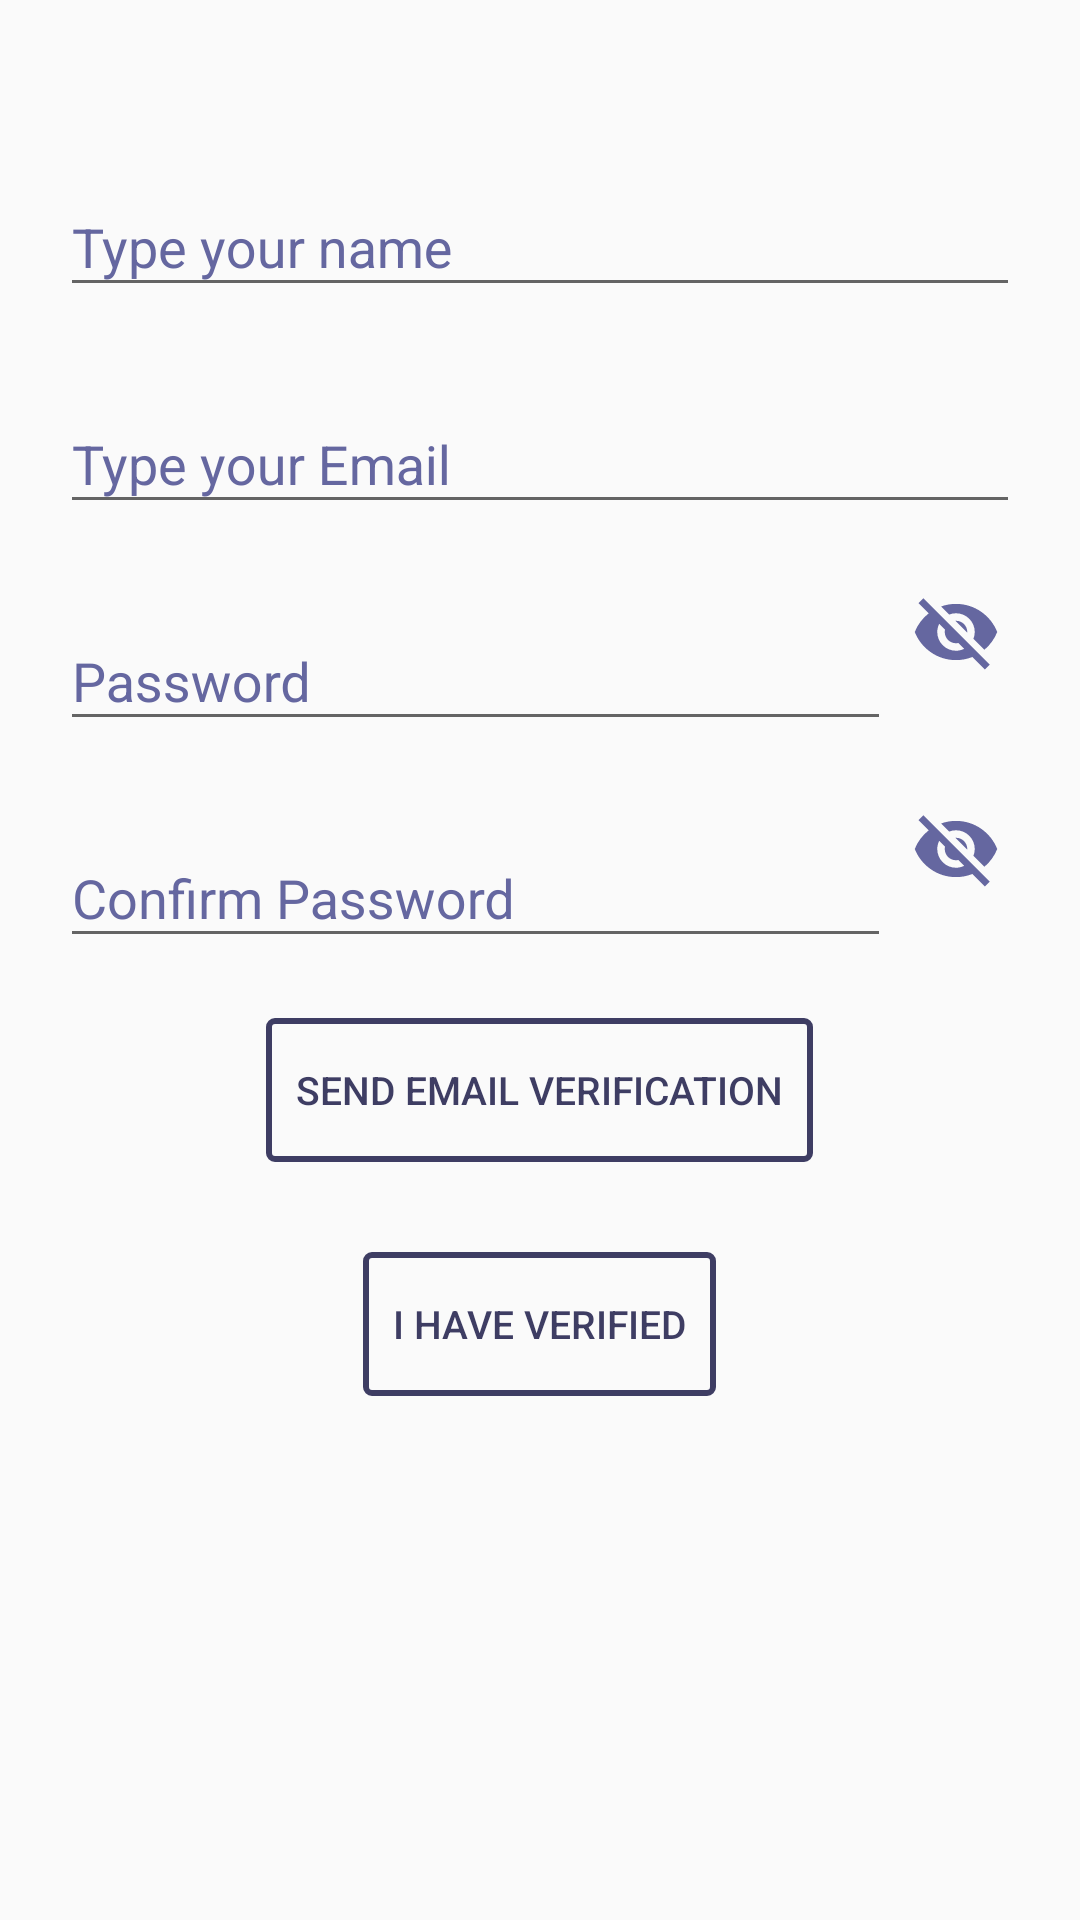

Named icons in this screenshot (1080px x 1920px) and their centers, [x,y]:
visibility off: [956,634], [956,851]
